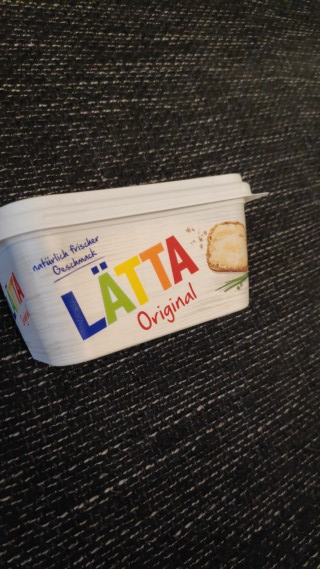laetta: (1, 170, 275, 367)
